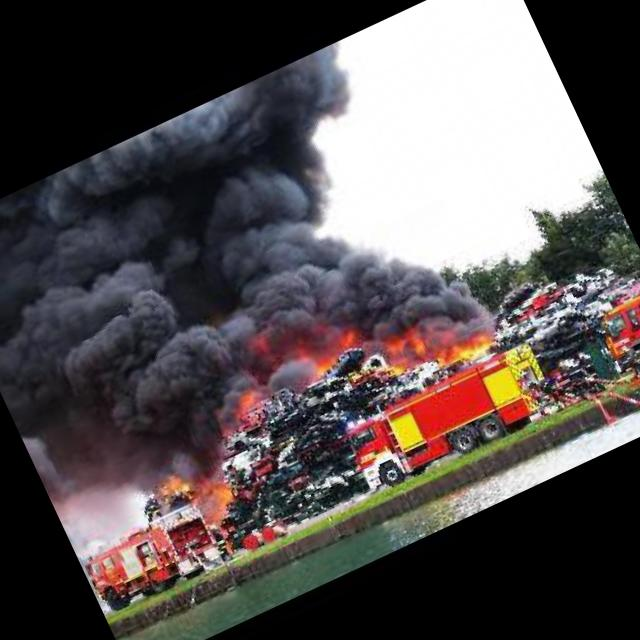fire: (370, 292, 506, 399), (154, 450, 248, 552), (288, 320, 370, 392), (204, 383, 279, 448)
smoke: (0, 35, 471, 486)
